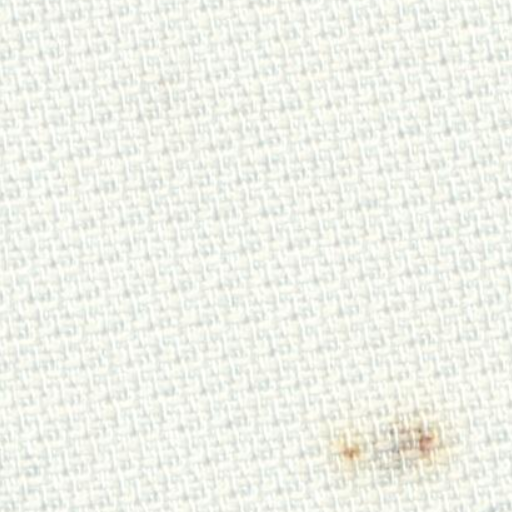WuZi: (318, 378, 476, 496)
